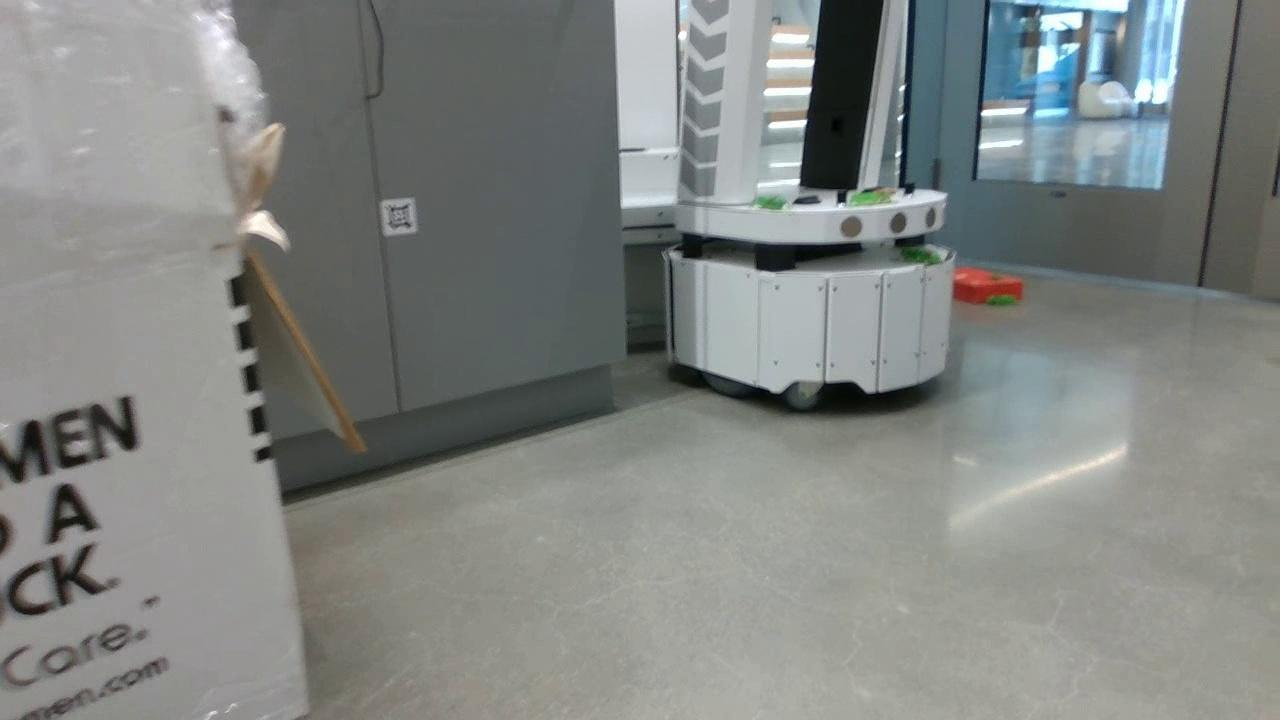grasshopper: (894, 246, 940, 267), (751, 195, 790, 215), (847, 193, 890, 208), (983, 293, 1020, 307)
